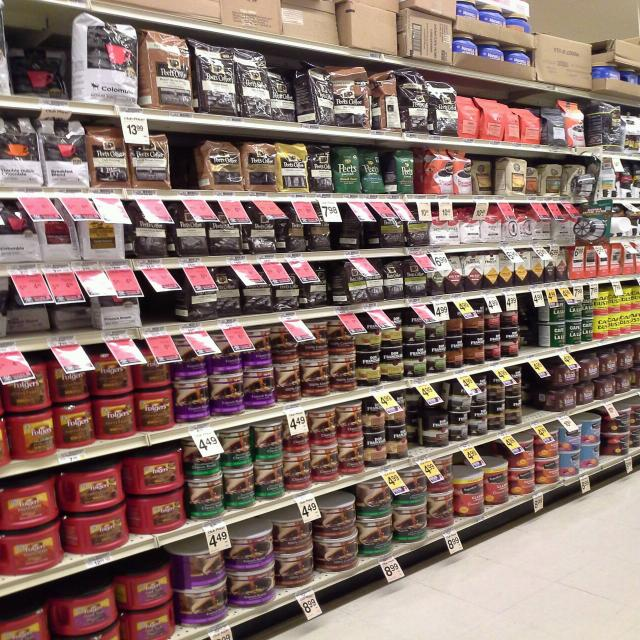empty: (131, 266, 197, 332), (168, 120, 203, 203), (517, 370, 561, 424)
